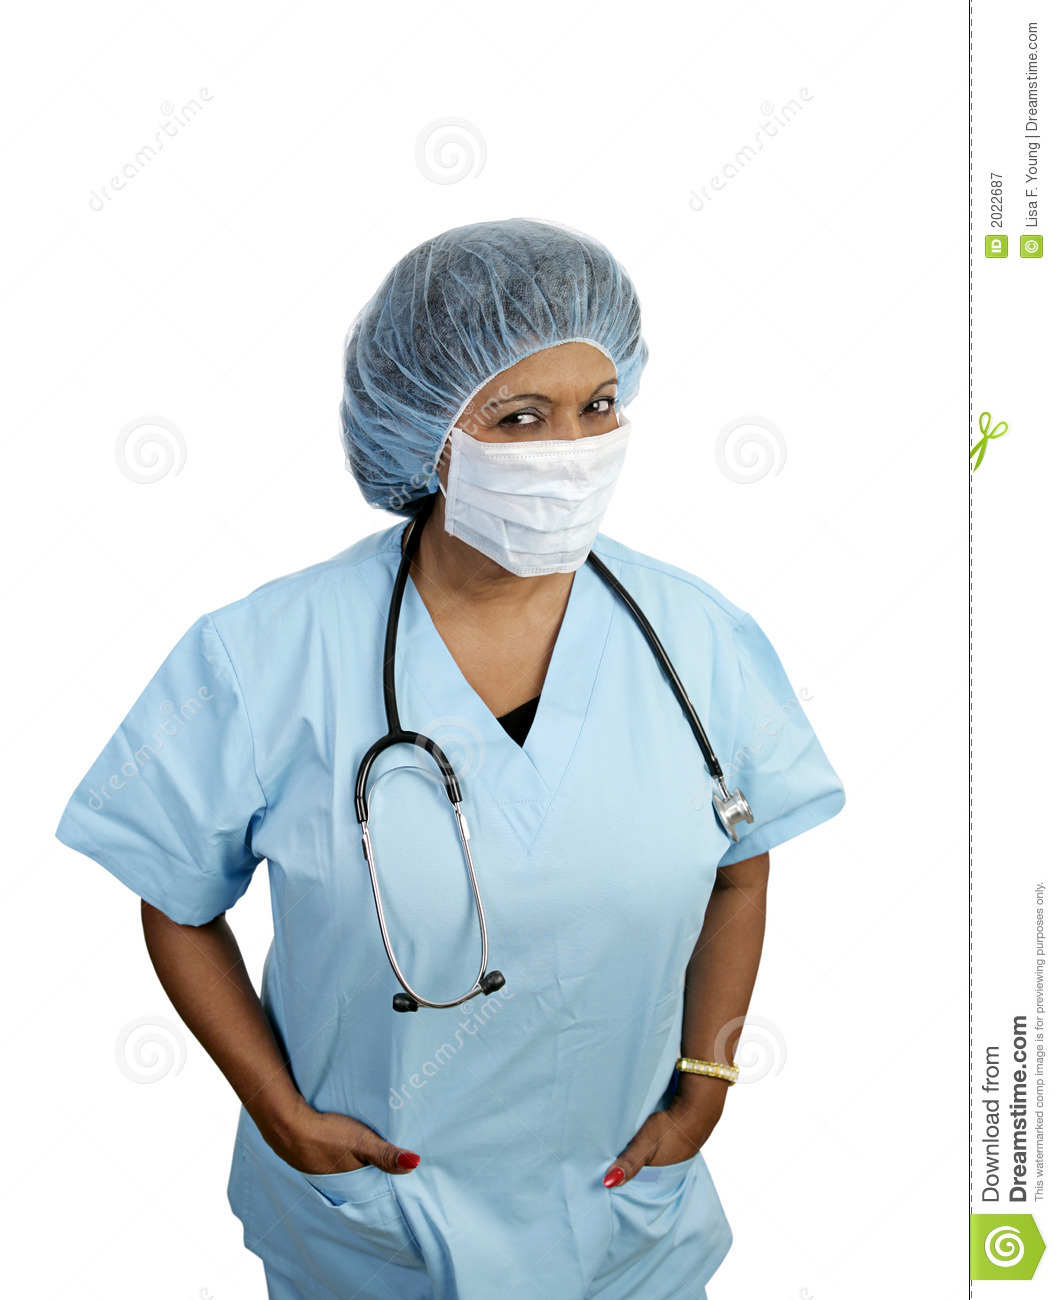mask: (437, 429, 641, 581)
